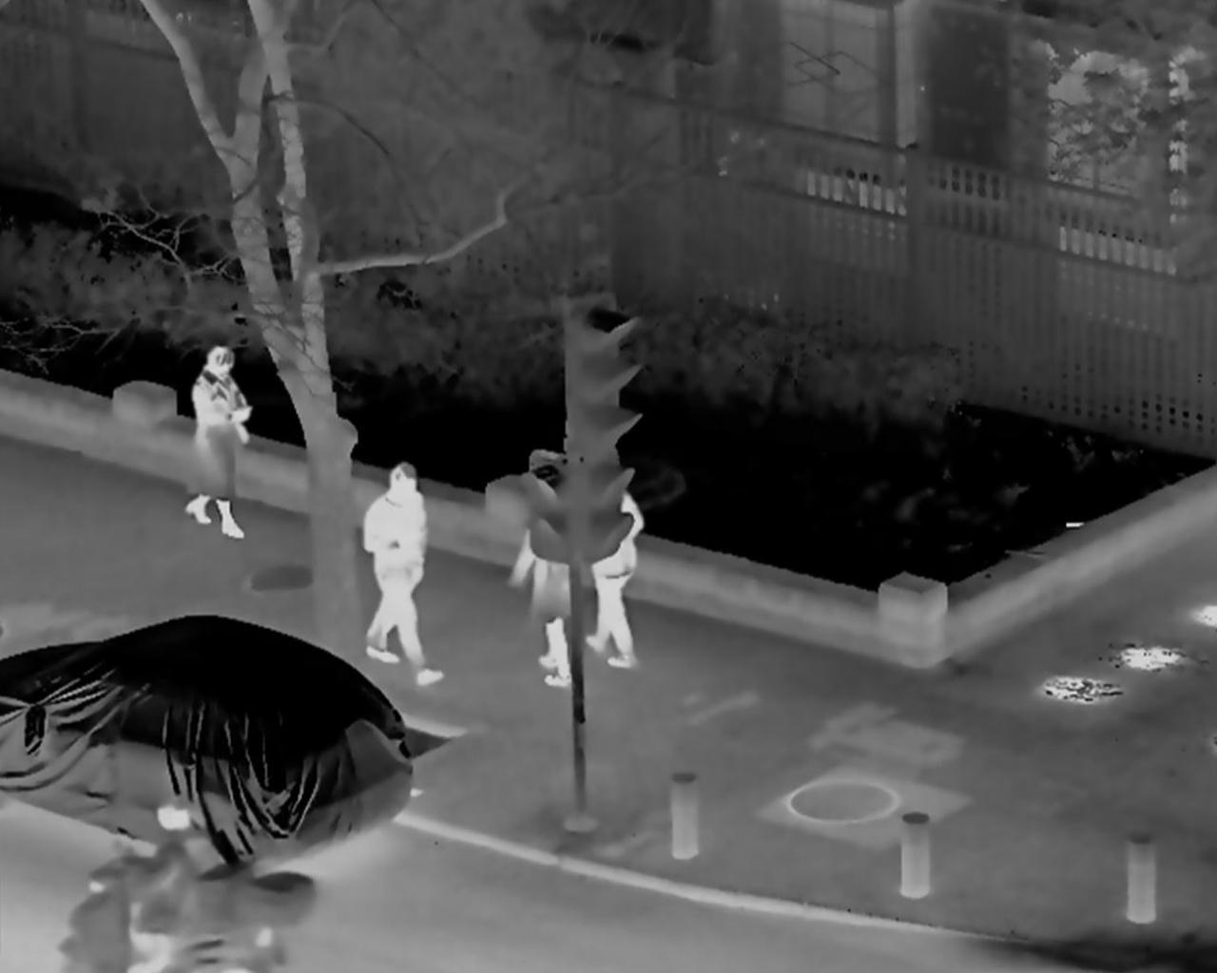person: (103, 798, 214, 973), (361, 460, 443, 687), (573, 460, 647, 669), (506, 488, 574, 689), (182, 348, 249, 537)
